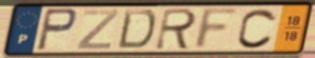C: (235, 7, 279, 51)
D: (115, 8, 158, 51)
F: (191, 6, 243, 51)
P: (34, 7, 79, 53)
R: (153, 7, 200, 52)
Z: (75, 8, 121, 50)
